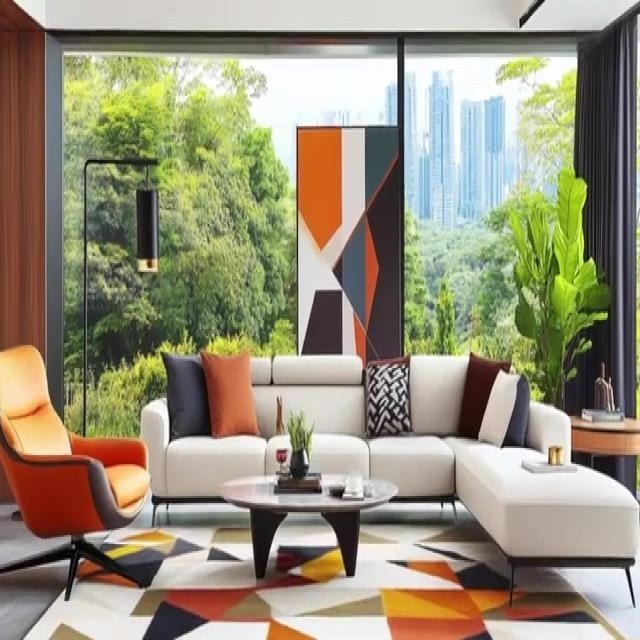obstacle: (141, 352, 640, 606), (0, 343, 150, 601), (218, 471, 398, 578)
